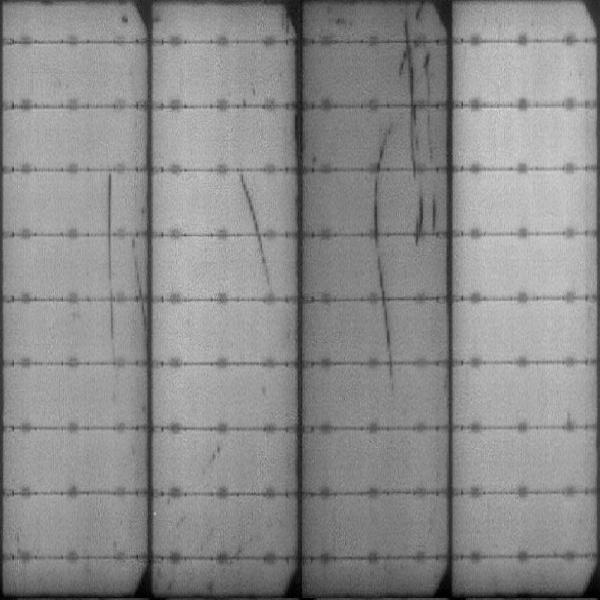scratch: (372, 128, 393, 299), (402, 107, 422, 233), (103, 174, 118, 336), (425, 104, 443, 233), (398, 41, 435, 103), (129, 235, 151, 323), (236, 177, 266, 232), (377, 303, 397, 363), (257, 235, 273, 292), (400, 3, 420, 41)
